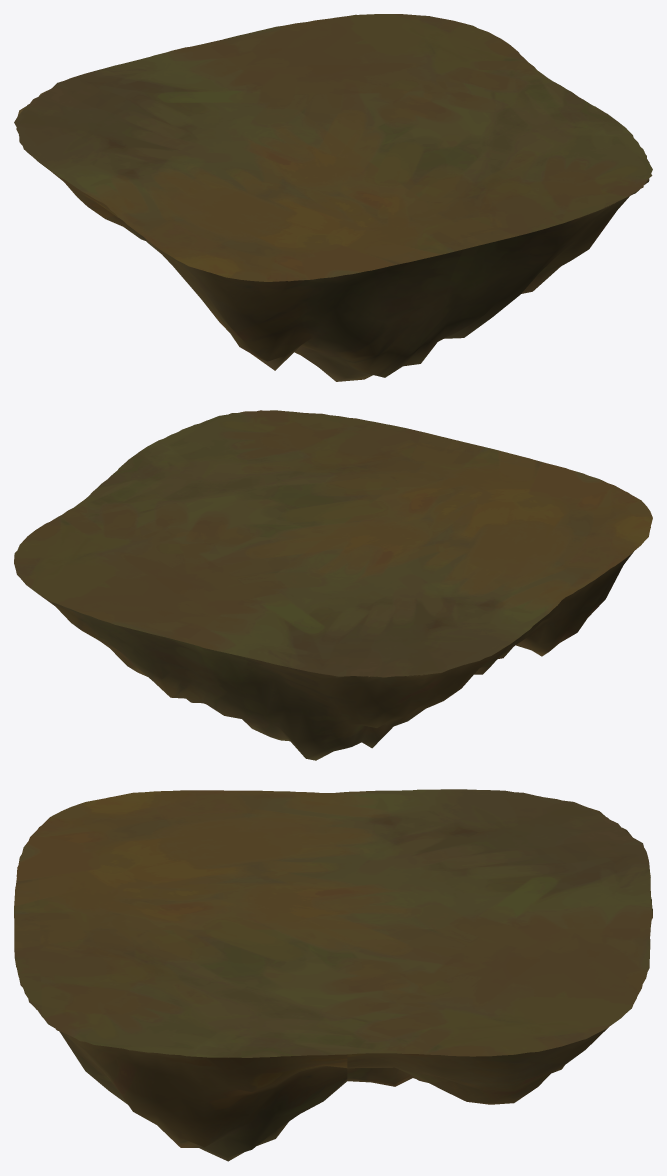
The model's file is Puzzle3.fbx.
3 renders of one model, top to bottom at view 1: azimuth 30°, elevation 25°; view 2: azimuth 150°, elevation 25°; view 3: azimuth 270°, elevation 25°, orthographic. The views are drawn at different scales.
Parts seen in each view (by area): view 1: Puzzle3; view 2: Puzzle3; view 3: Puzzle3.
Part boxes in pixels (x1,y1,x2,y2): Puzzle3: (14, 14, 652, 381); Puzzle3: (14, 410, 652, 760); Puzzle3: (14, 789, 652, 1161).
Bounding box in the file's own units: 184 × 63.36 × 185.
1 material, 1 textured.
